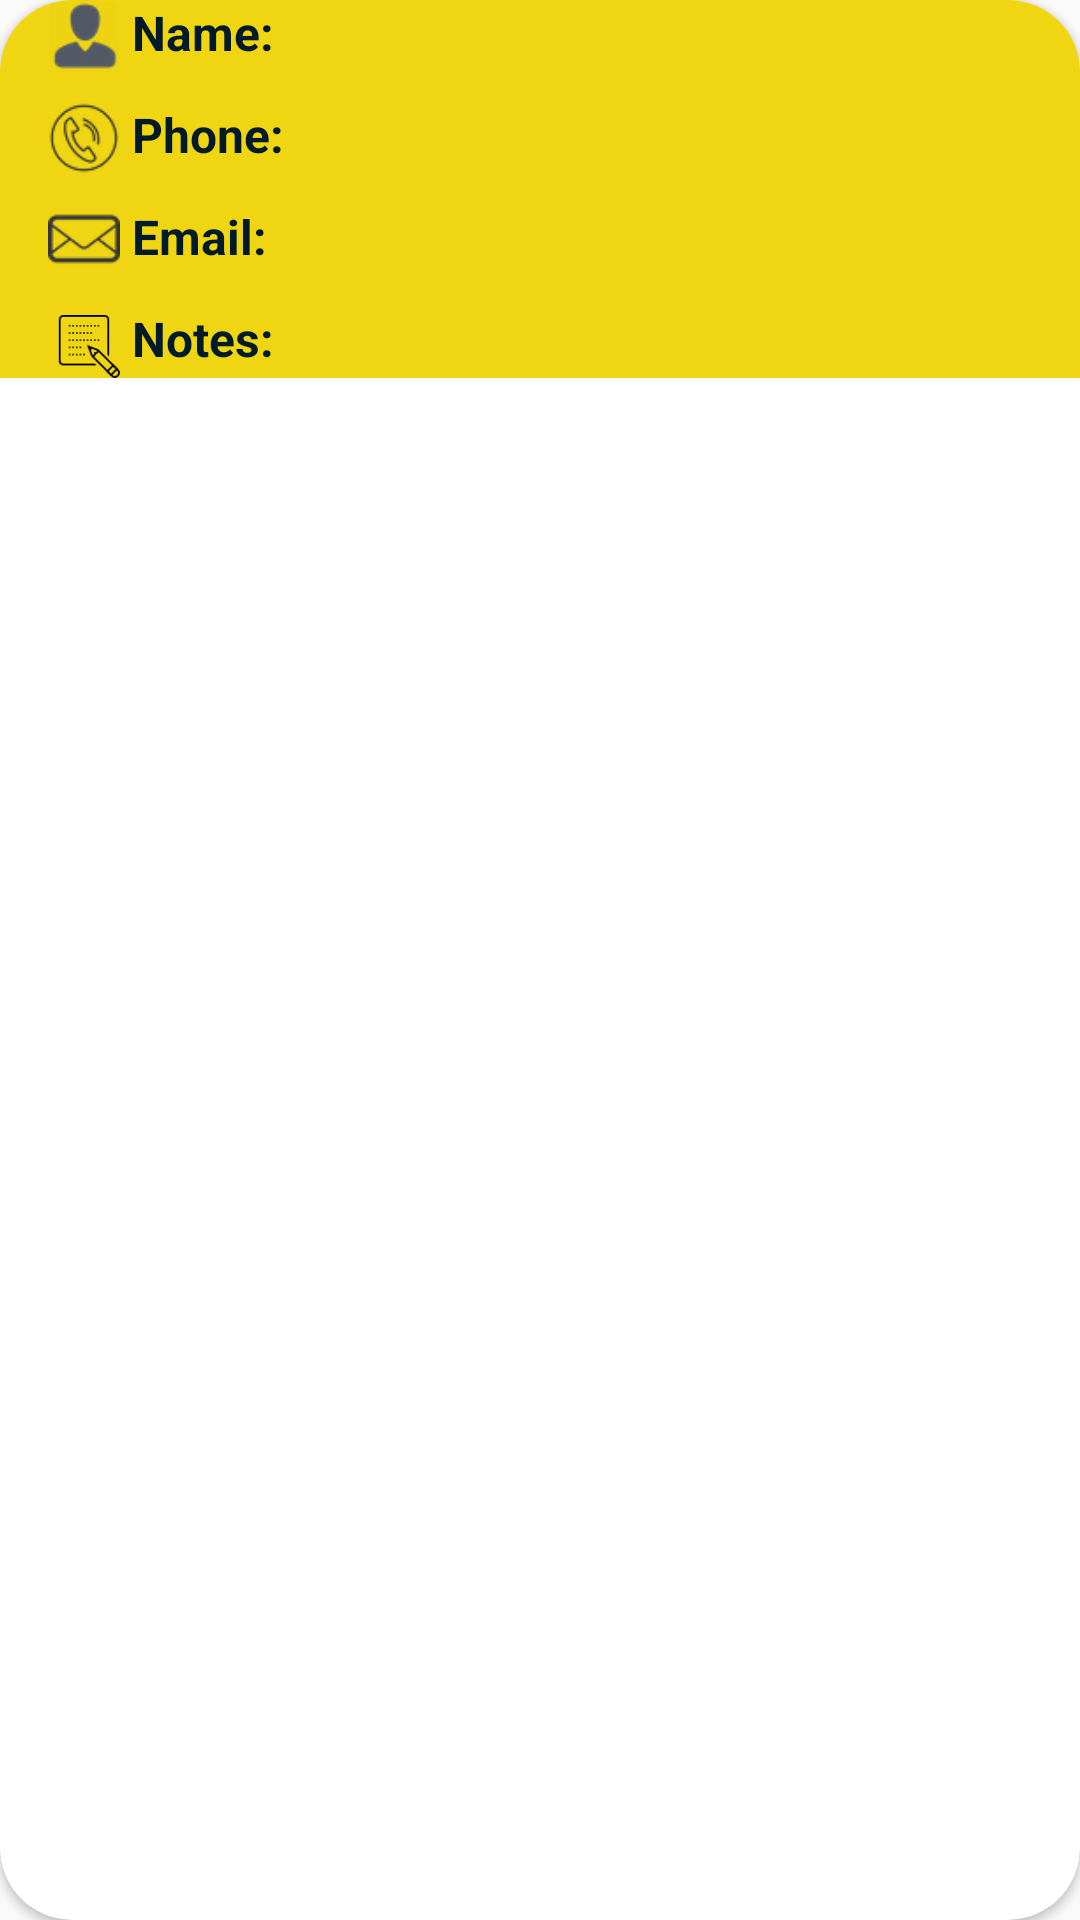

Named icons in this screenshot (1080*1920) and their centers, (x=x, y=y):
usericon: (x=85, y=36)
